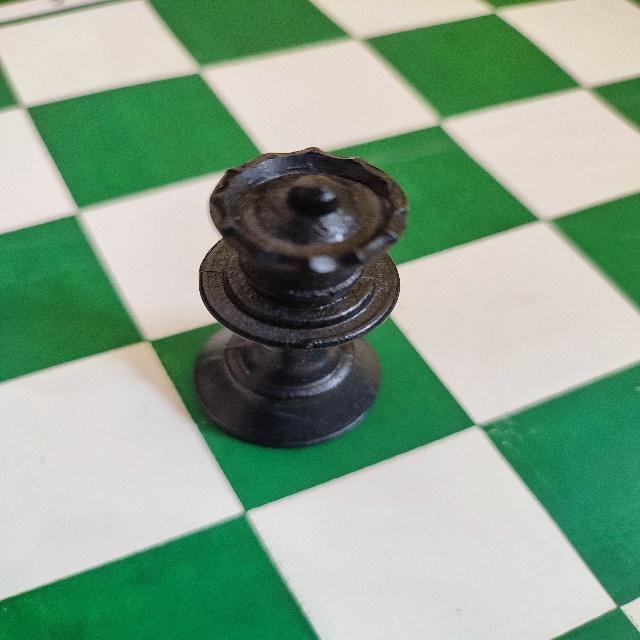Queen: (192, 142, 410, 452)
